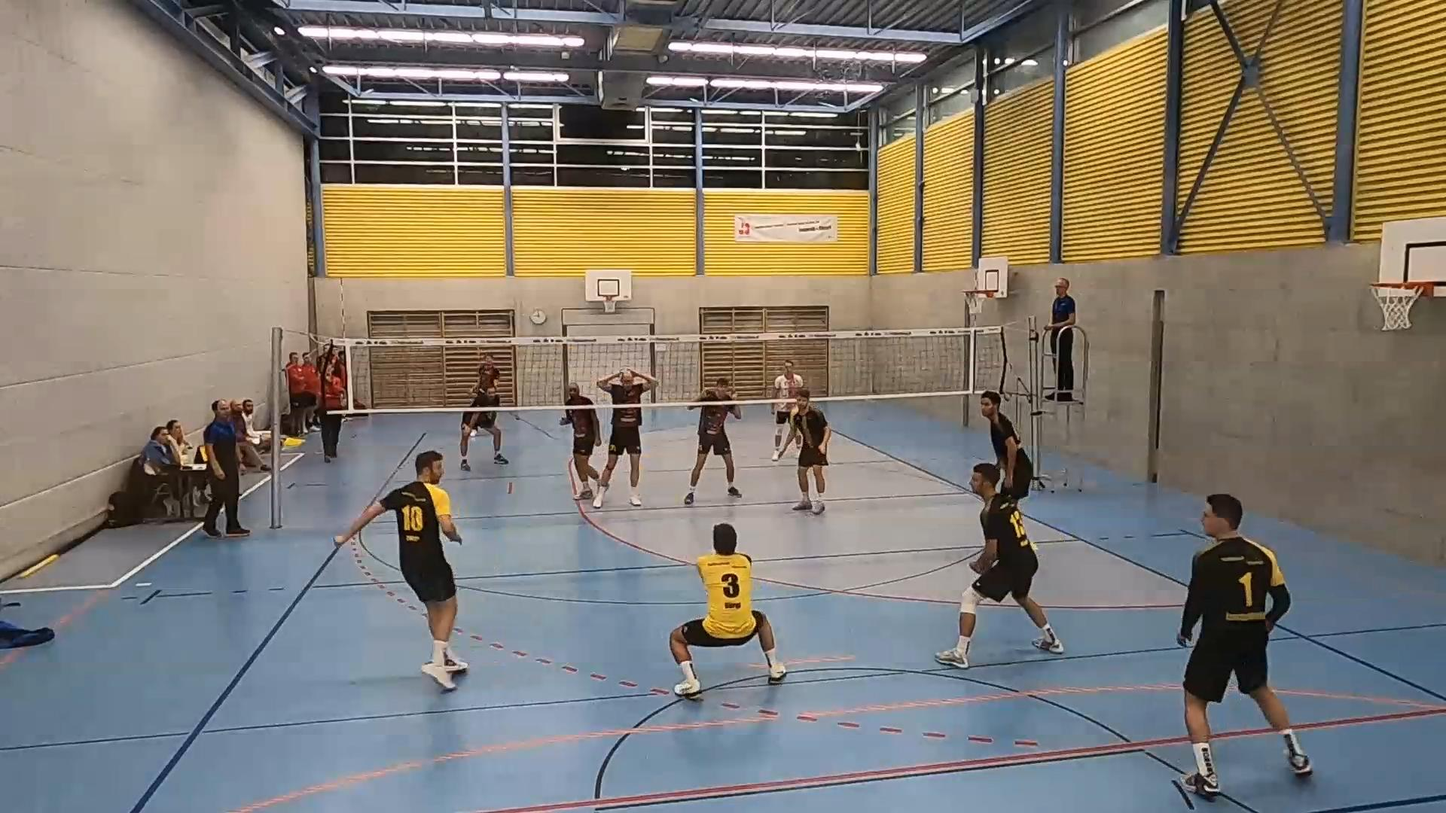ricezione: (666, 524, 787, 699)
